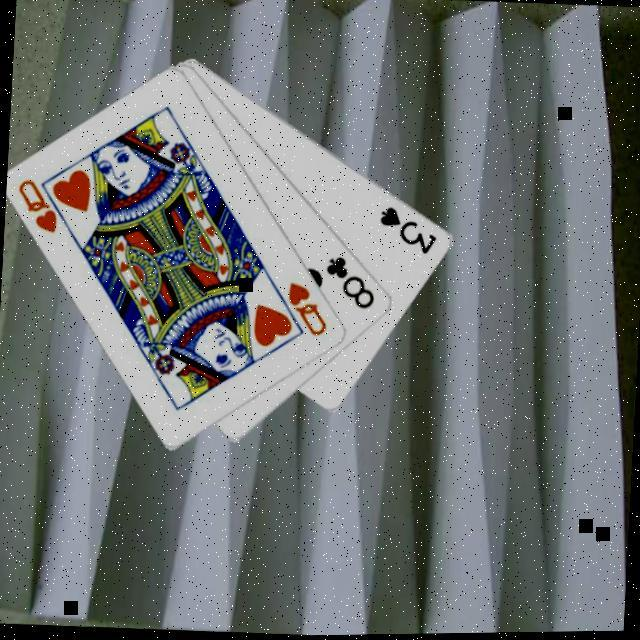3S: (374, 203, 441, 259)
8C: (321, 252, 380, 314)
QH: (12, 174, 77, 238), (283, 278, 333, 341)
